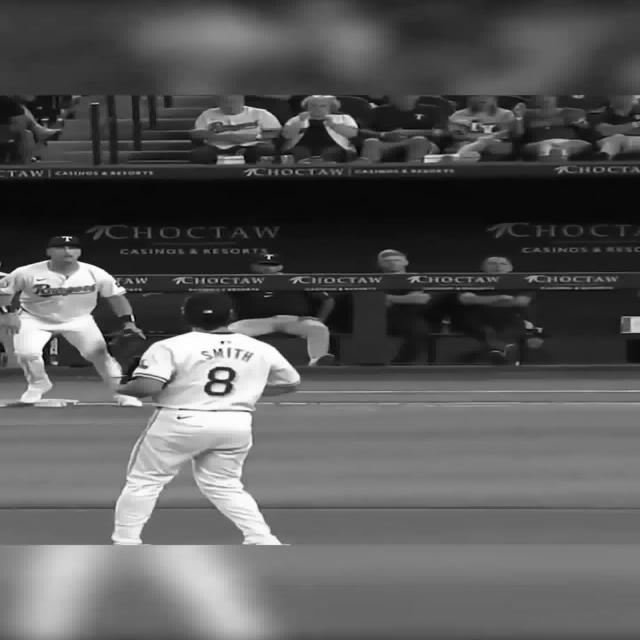shoe: (19, 382, 53, 404), (111, 393, 142, 408), (241, 535, 285, 545), (308, 354, 336, 366), (19, 389, 43, 403)
